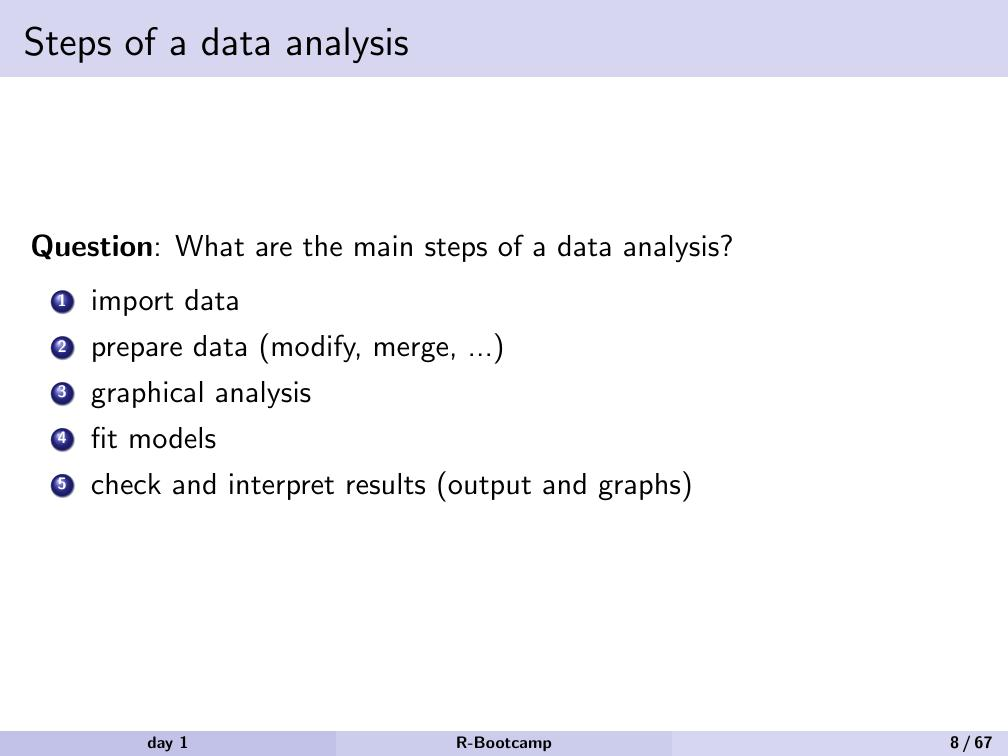Title: (17, 17, 413, 68)
